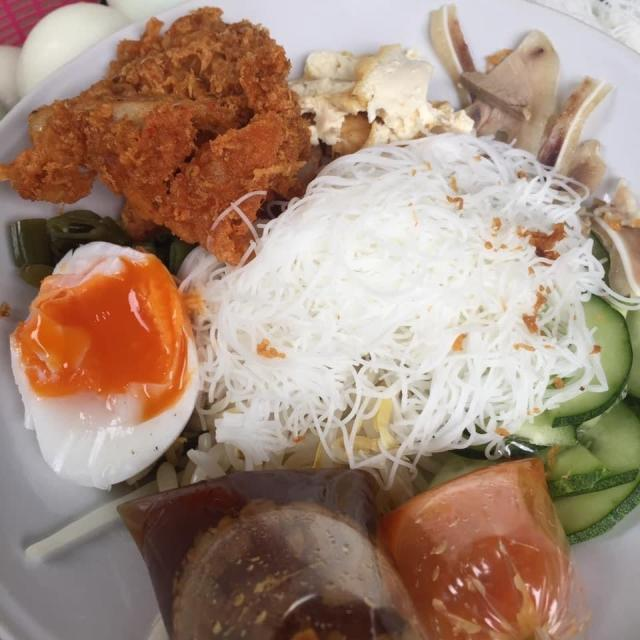Carbohydrate: (186, 134, 608, 449)
Protein: (8, 7, 321, 483)
Taokua: (2, 0, 640, 640)
Vegetable: (560, 308, 640, 550)
